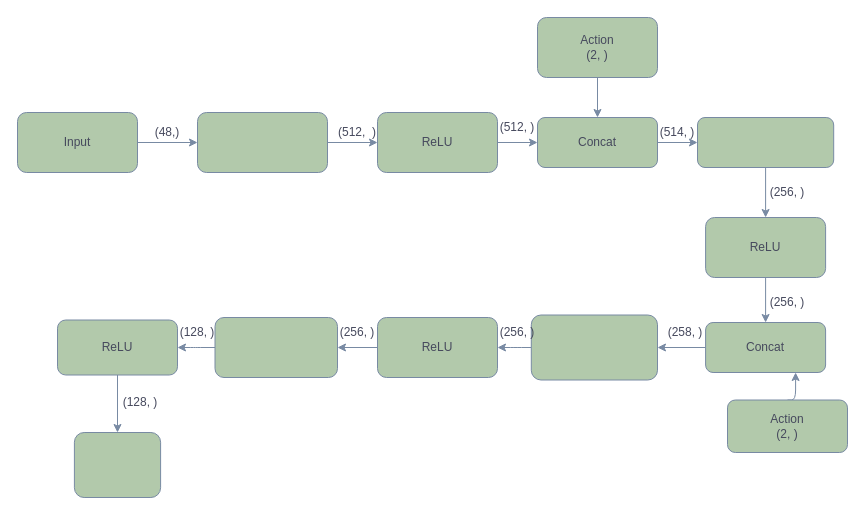
This 865x515 diagram has some shape labels left out. Each missing label, with the box of its shape:
Linear1 48x512: (196, 112, 328, 172)
Linear2 514x256: (696, 116, 834, 168)
Linear3 258x256: (530, 314, 658, 380)
Linear4 256x128: (214, 316, 338, 378)
Linear5 128x1: (73, 432, 161, 498)
